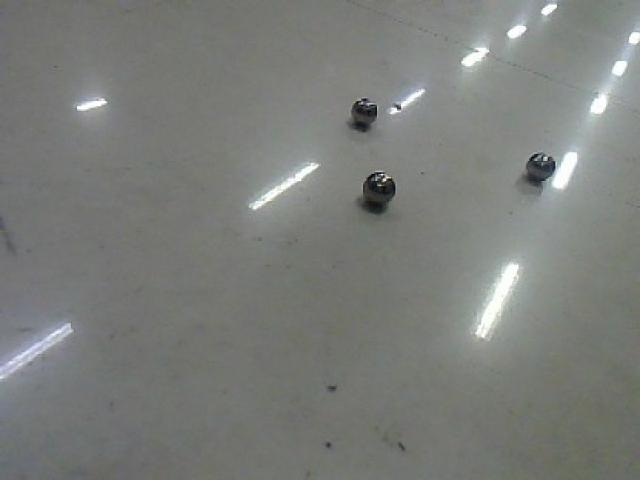steel-ball: (334, 71, 391, 135), (356, 160, 402, 209), (515, 143, 560, 189)
